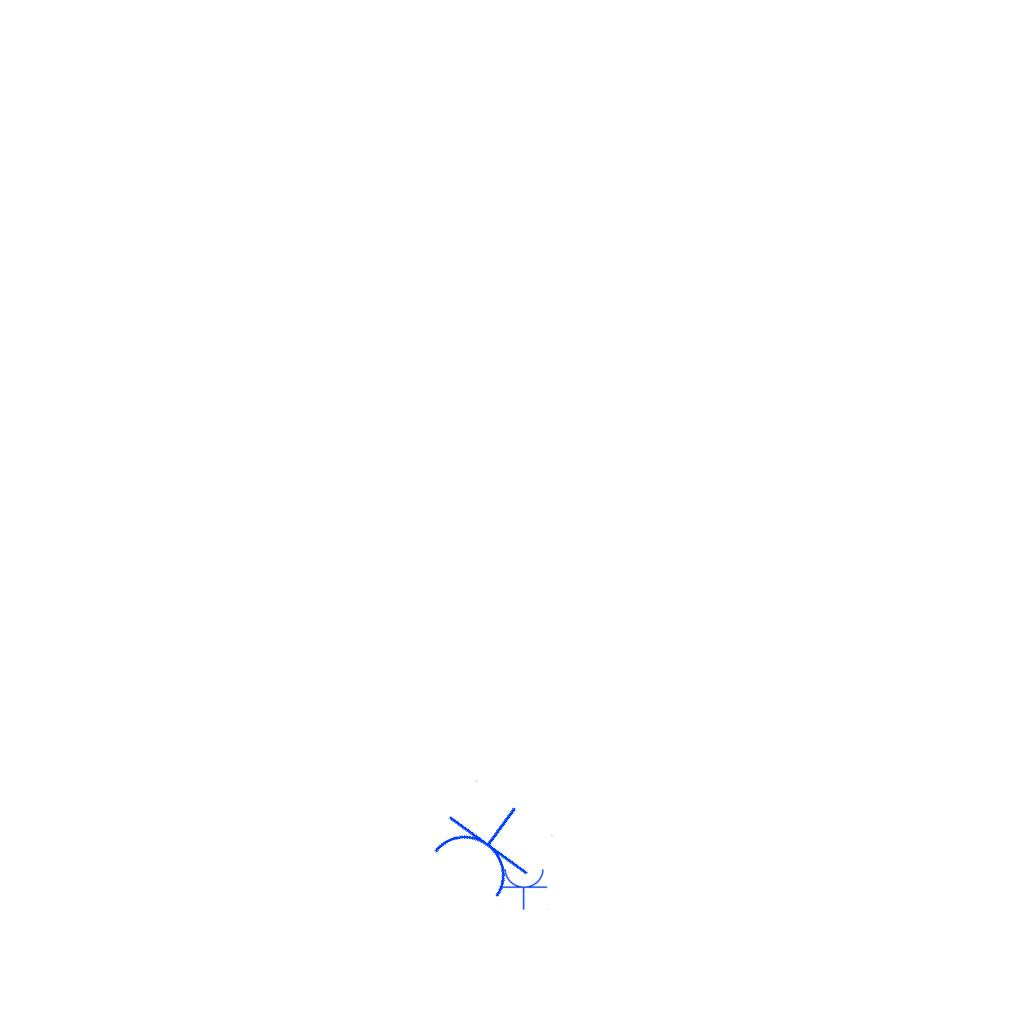Schukosteckdose_einfach: (422, 777, 556, 908), (499, 867, 549, 910)
